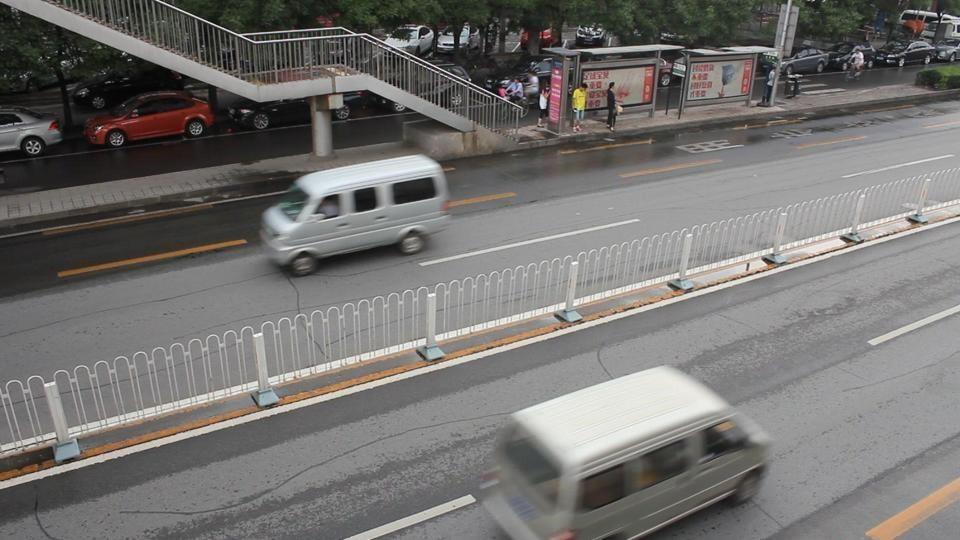car: (258, 151, 453, 276), (87, 91, 218, 151), (0, 108, 62, 157), (384, 24, 437, 57), (884, 41, 941, 68), (779, 48, 830, 75), (931, 43, 960, 64), (868, 49, 903, 66)
